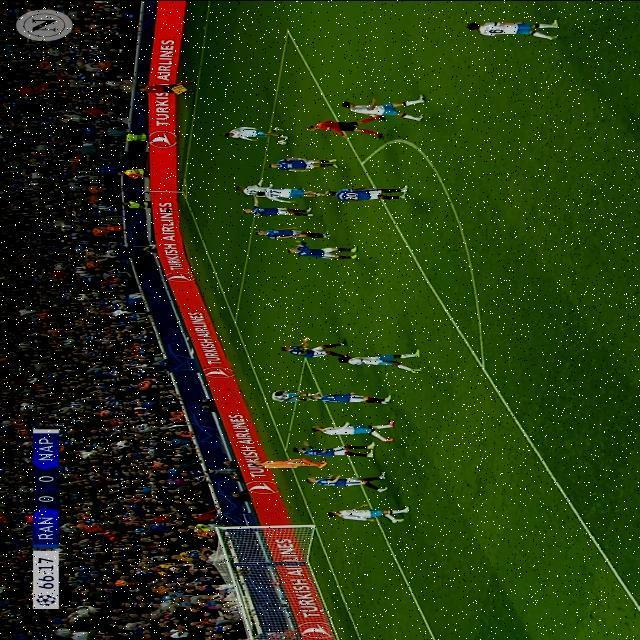ball: (273, 135, 292, 147)
goalkeeper: (250, 456, 332, 472)
player: (336, 92, 436, 122), (460, 14, 576, 38), (319, 178, 419, 204), (234, 223, 338, 247), (328, 347, 440, 369), (268, 337, 362, 361), (306, 420, 402, 442), (281, 239, 376, 259), (315, 505, 421, 521), (262, 153, 354, 171), (237, 203, 319, 223), (295, 471, 397, 487), (307, 389, 401, 405), (294, 441, 383, 457), (223, 121, 289, 139), (268, 386, 313, 406), (262, 186, 330, 198), (234, 184, 270, 194)
referee: (306, 113, 392, 135)
